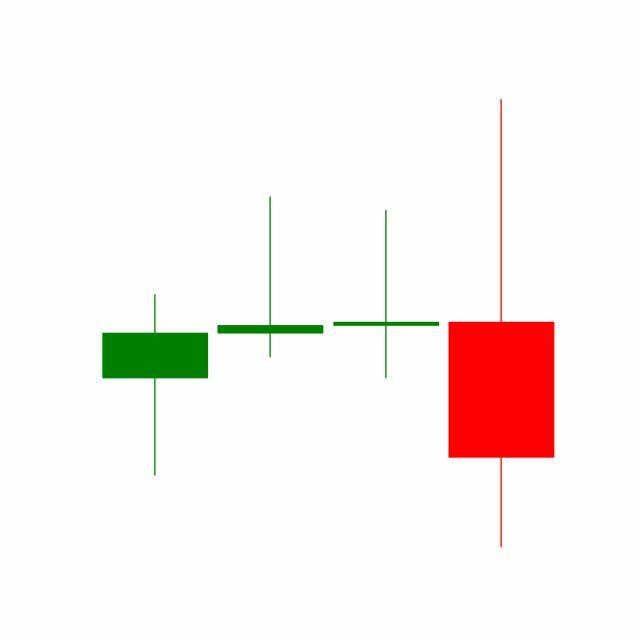Spinning Top: (329, 208, 445, 381)
